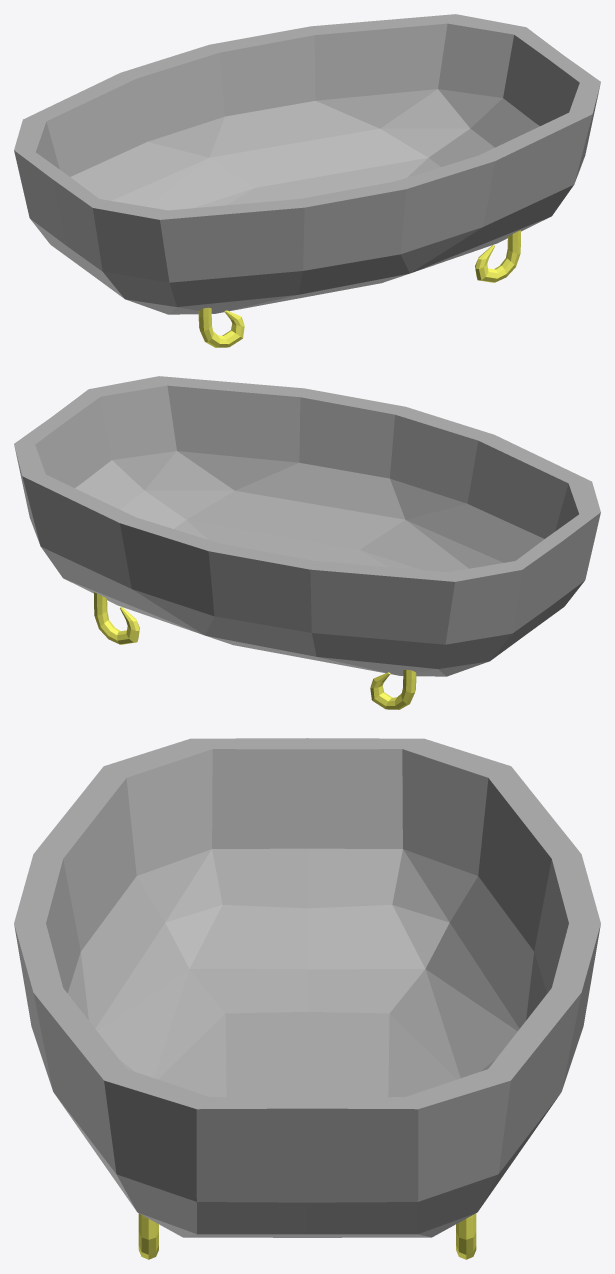
The model's file is castle_town_interior_tub.fbx.
3 views of the same model, one above another, from view 1: azimuth 30°, elevation 25°; view 2: azimuth 150°, elevation 25°; view 3: azimuth 270°, elevation 25° (orthographic). The views are drawn at different scales.
Parts seen in each view (by area): view 1: tub; view 2: tub; view 3: tub.
Boxes of the visible parts, bbox=[...] form: tub: bbox=[14, 14, 600, 347]; tub: bbox=[14, 376, 600, 709]; tub: bbox=[14, 738, 600, 1259].
Bounding box in the file's own units: 1514 × 672 × 2265.
